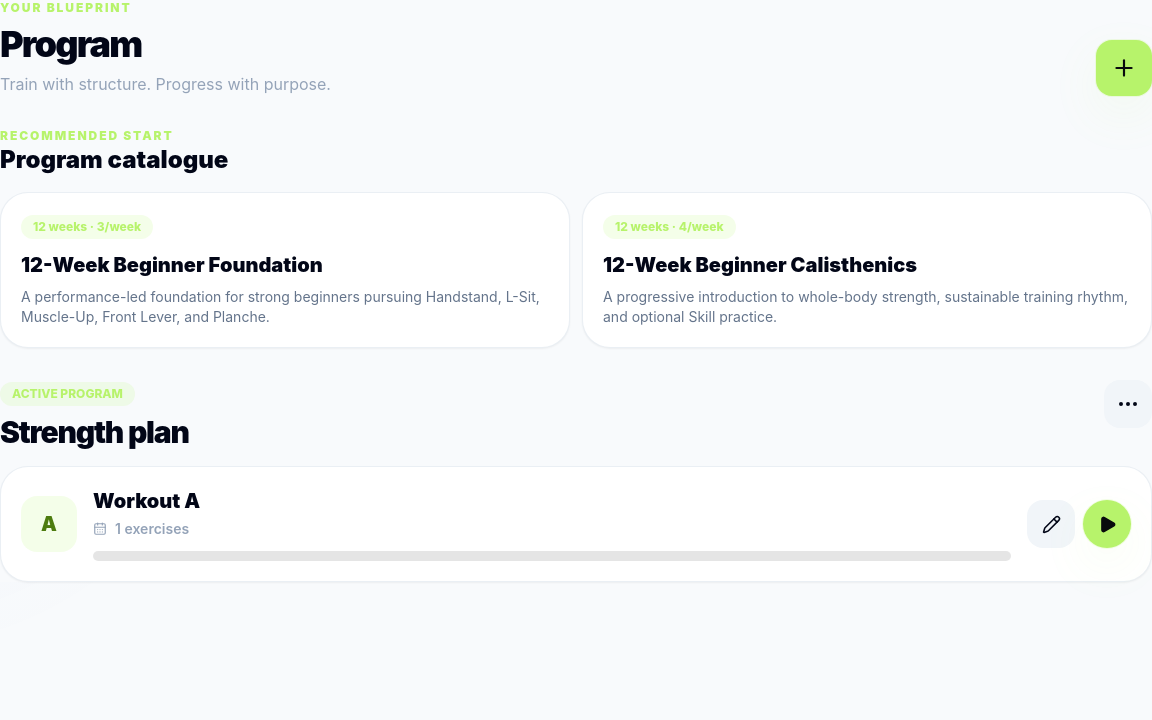
Test: program management actions › renames without changing workout contents
The image size is (1152, 720).
Click the button named "Program actions": (1128, 404) [1104,380,1151,428]
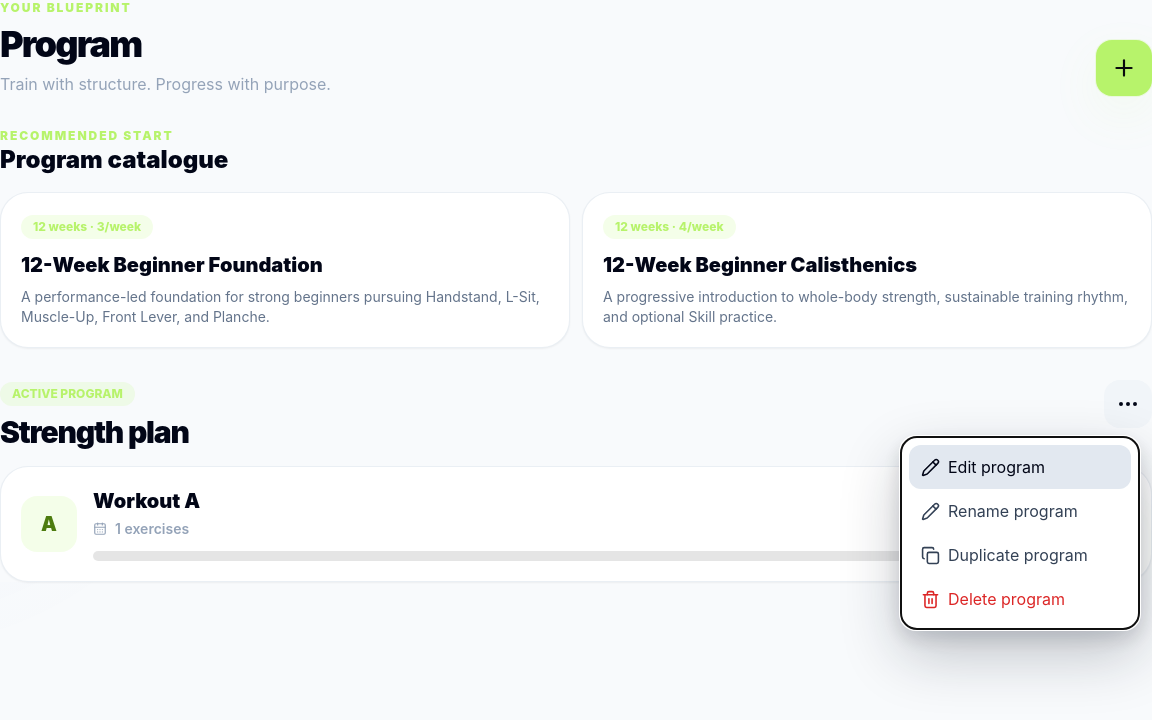
Click the menu item "Rename program": (1020, 511) [909,489,1131,533]
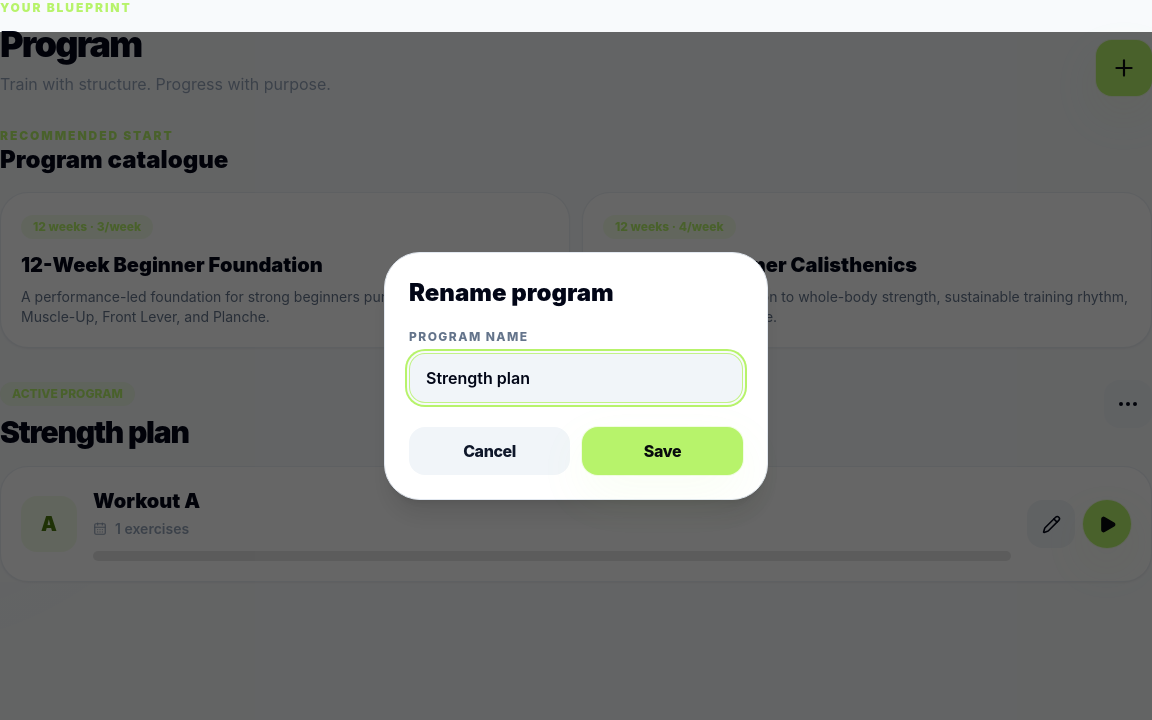
Clear the field labelled "Program name": (576, 378) [409,353,743,403]
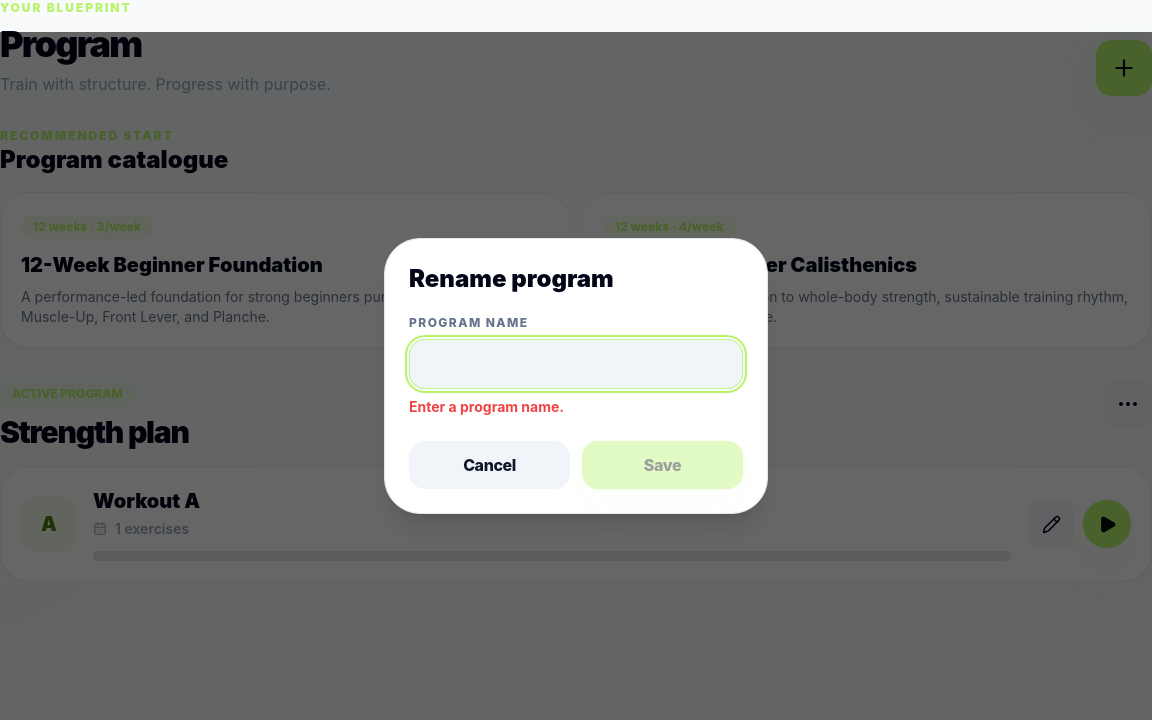
In the field labelled "Program name": (576, 364) [409,339,743,389], type "New name"
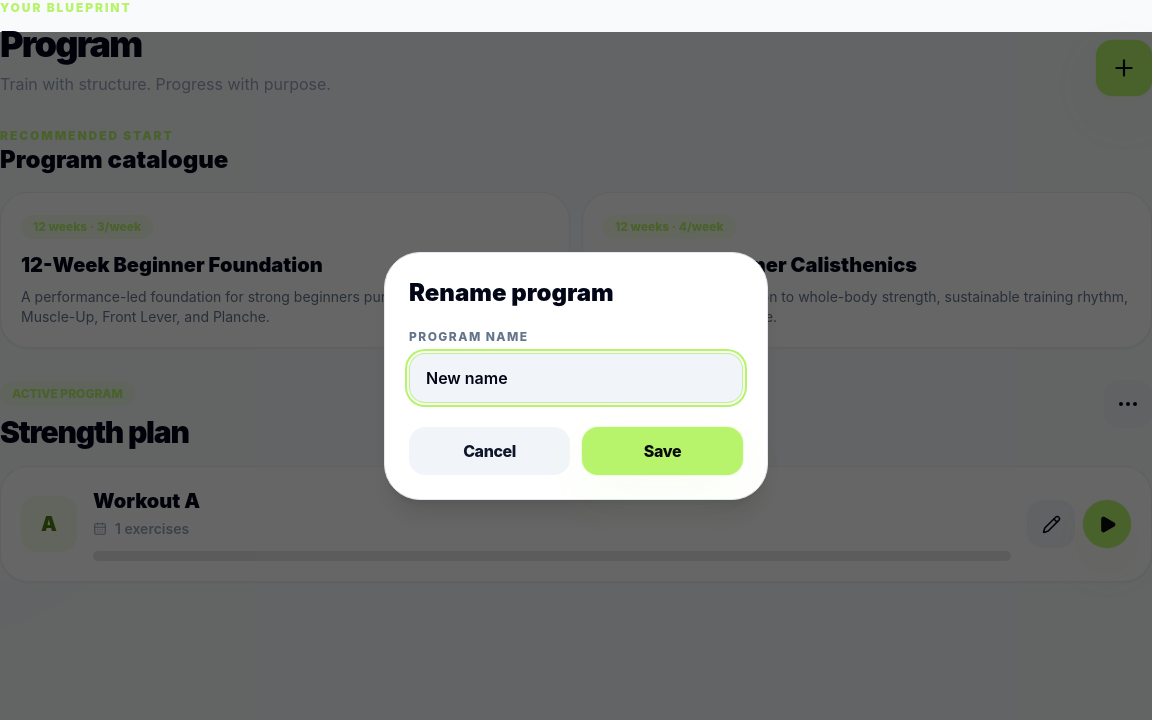
Click the button "Save": (662, 451) [582,427,743,475]
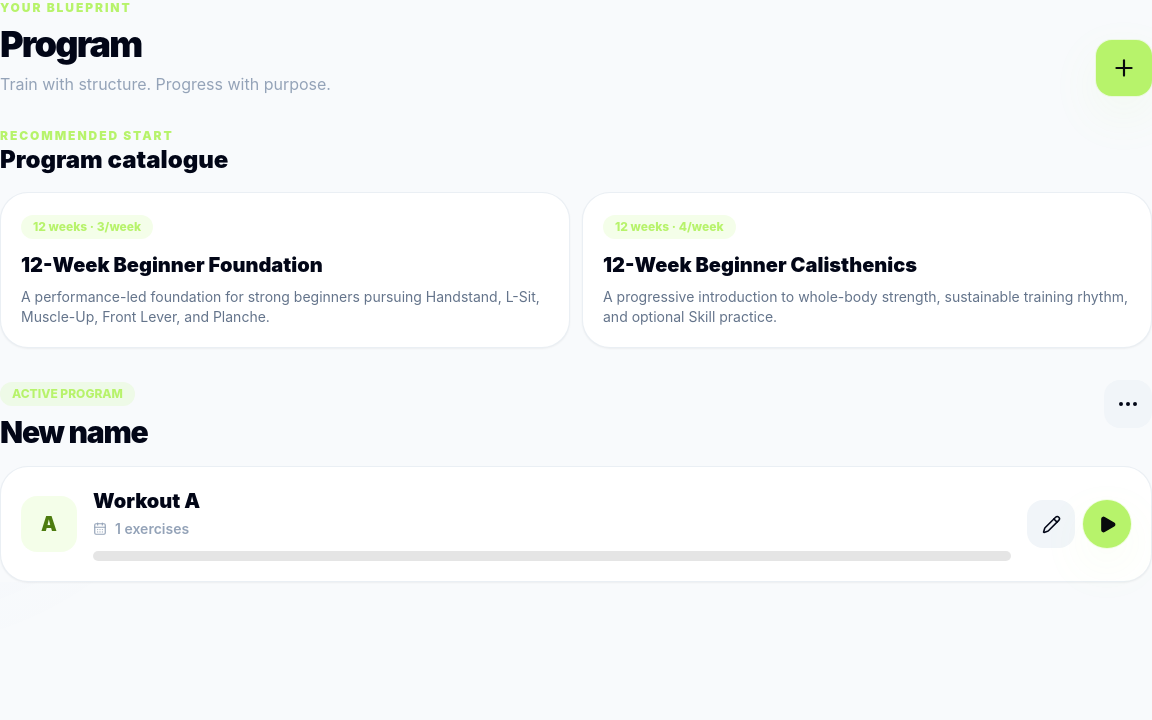
Expected: the heading "New name" is shown, [0,414,148,450]
